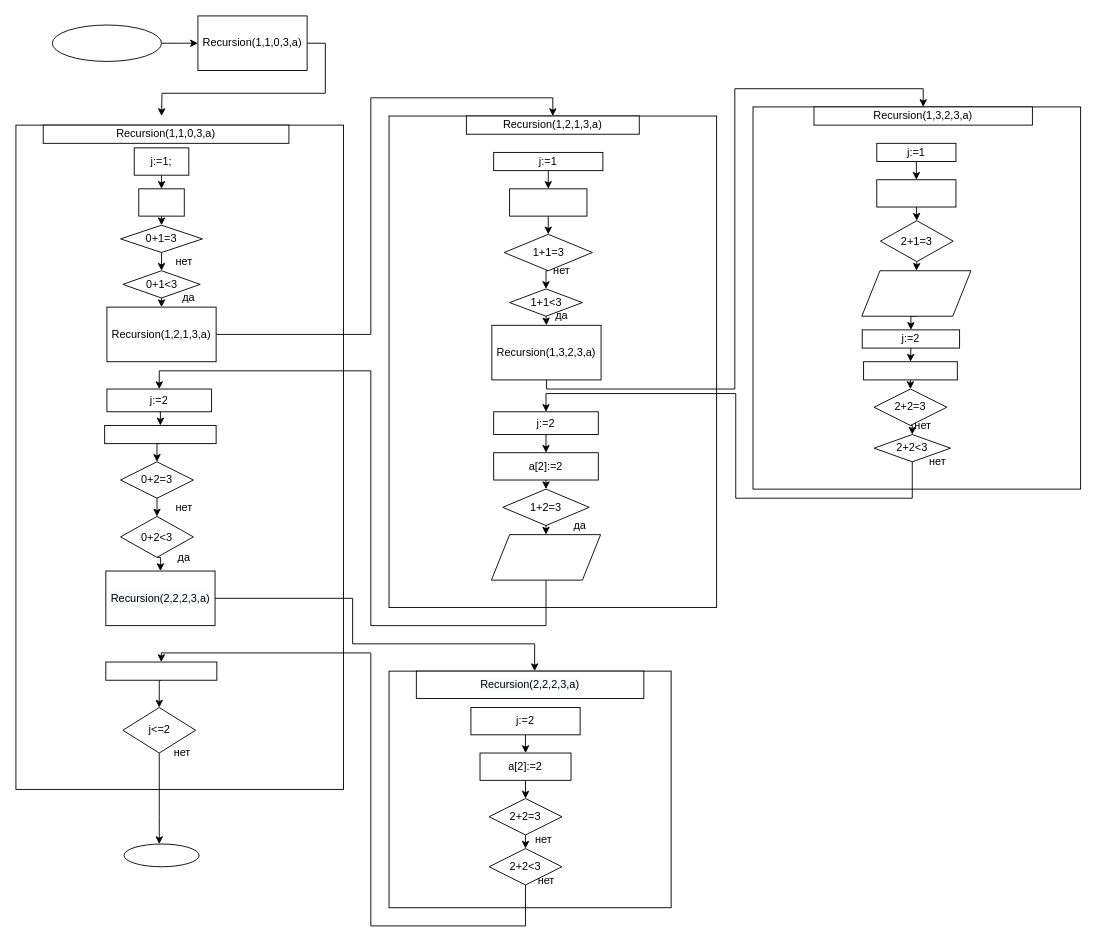
This 1097x949 diagram has some shape labels left out. The shapes that lost their labels are listed below. From the top down, each one's box as (x1, y1, x2, y2) in pixels, then its label:
(51, 24, 162, 61): начало
(138, 188, 184, 216): a[1]:=1;
(509, 188, 587, 216): a[2]:=1
(876, 179, 956, 207): a[3]:=1
(861, 270, 971, 316): вывод на экран значения 1+1+1
(863, 361, 957, 380): a[3]:=2
(104, 425, 216, 444): a[1]:=2
(490, 534, 601, 580): вывод на экран значения 1+2
(105, 661, 217, 680): j:=3
(123, 843, 199, 867): Конец
